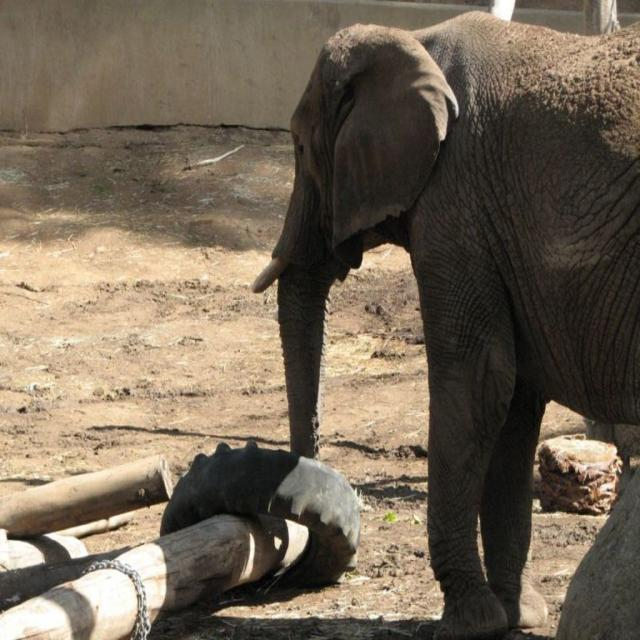elephant: (247, 5, 632, 616)
